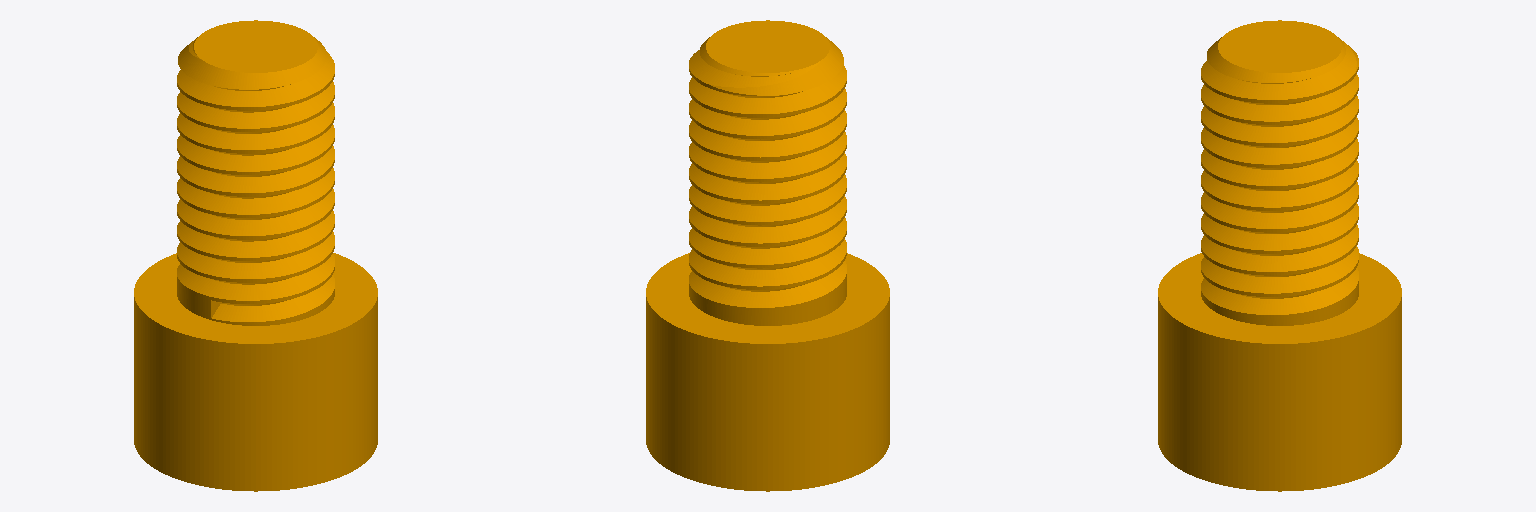
The robot description file, URDF, robot "factory_bolt_m12_loose":
<?xml version="1.0"?>
<robot name="factory_bolt_m12_loose">
    <link name="factory_bolt_m12_loose">
        <visual>
            <geometry>
                <mesh filename="../mesh/factory_nut_bolt/factory_bolt_m12_loose.obj"/>
            </geometry>
        </visual>
        <collision>
            <geometry>
                <mesh filename="../mesh/factory_nut_bolt/factory_bolt_m12_loose.obj"/>
            </geometry>
            <sdf resolution="512"/>
        </collision>
    </link>
</robot>

--- Facts derived from the render (not from the file) ---
Views: 3 orthographic renders of the robot side by side, from view 1: azimuth 30°, elevation 25°; view 2: azimuth 150°, elevation 25°; view 3: azimuth 270°, elevation 25°.
Model factory_bolt_m12_loose with 1 links and 0 joints (none), rooted at factory_bolt_m12_loose, posed all joints at 0.
Visible links, largest first — view 1: factory_bolt_m12_loose; view 2: factory_bolt_m12_loose; view 3: factory_bolt_m12_loose.
Boxes of the visible links, x1,y1,x2,y2 form: factory_bolt_m12_loose: [134, 20, 377, 491]; factory_bolt_m12_loose: [646, 20, 889, 491]; factory_bolt_m12_loose: [1158, 20, 1401, 491].
Size in the robot's own frame: 0.018 by 0.018 by 0.032 metres.
Meshes: 1 distinct files referenced, 1 mesh visuals loaded (1 OBJ).